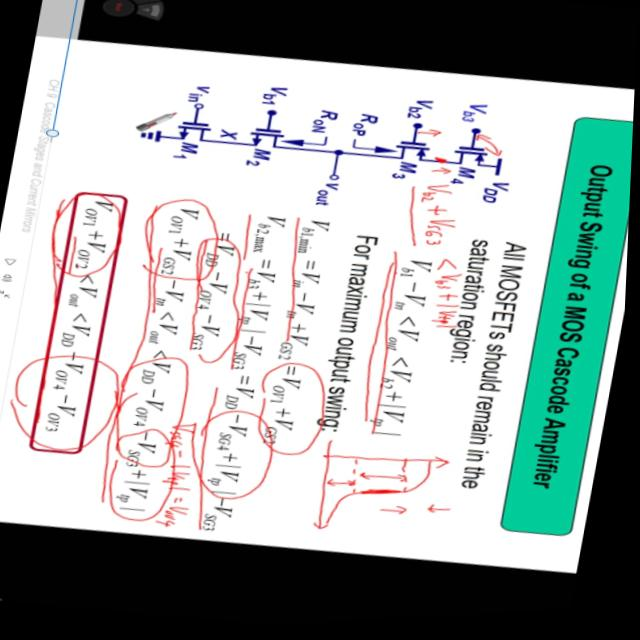panseo: (298, 435, 470, 561), (386, 180, 485, 345), (152, 418, 211, 535)
